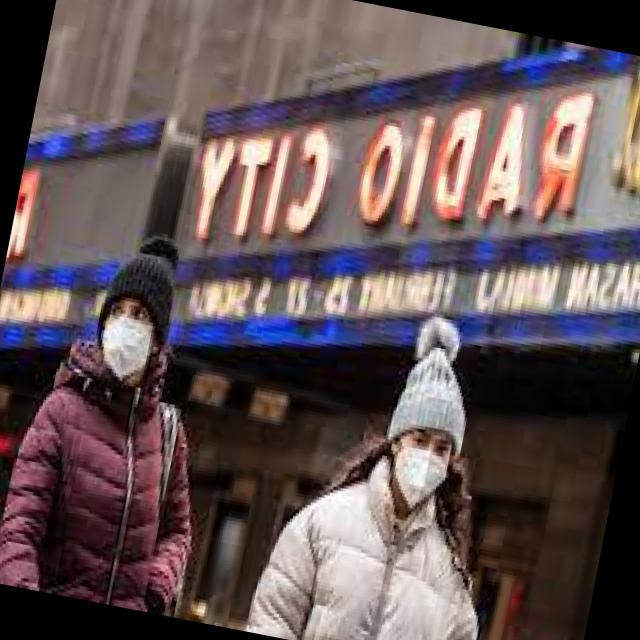Jacket: (0, 353, 221, 618), (244, 457, 518, 640)
